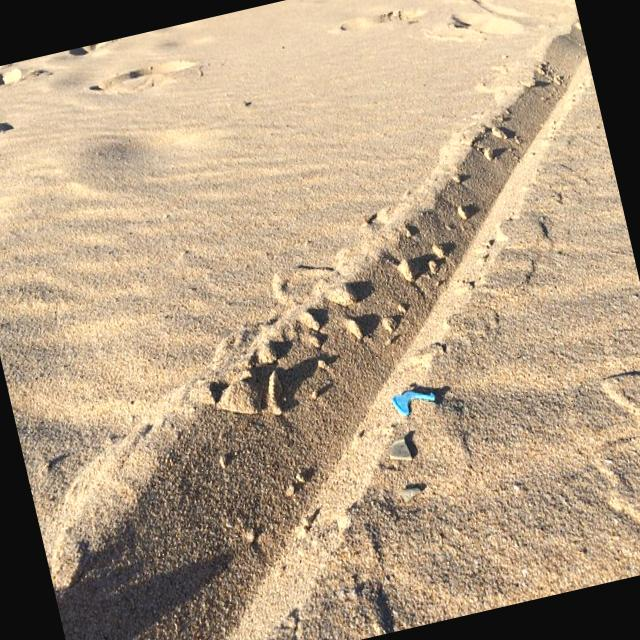Trash: (389, 378, 444, 426)
